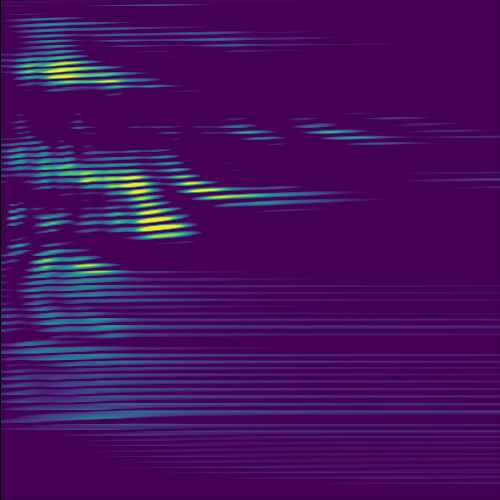semblance: (38, 50, 132, 95), (78, 163, 167, 208), (126, 196, 204, 247)
